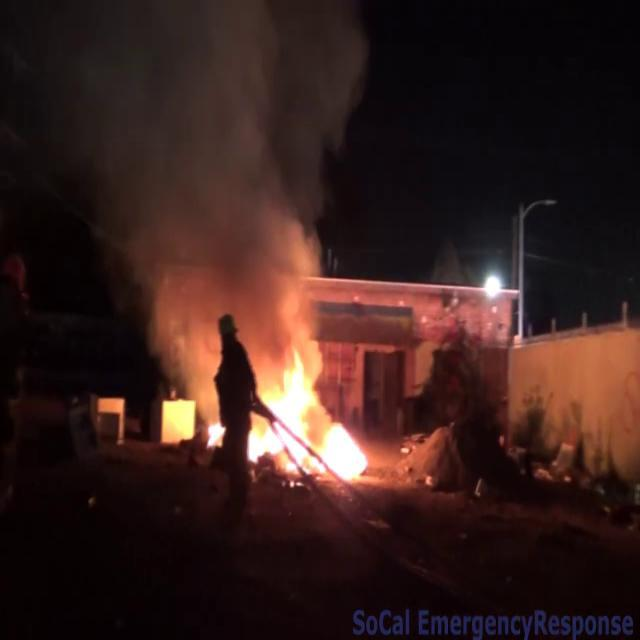Fire: (248, 339, 374, 483)
Smoke: (23, 0, 367, 346)
